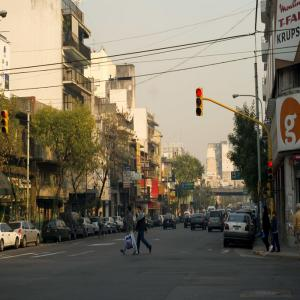Vehicle-registration-plate: (236, 228, 241, 232)
